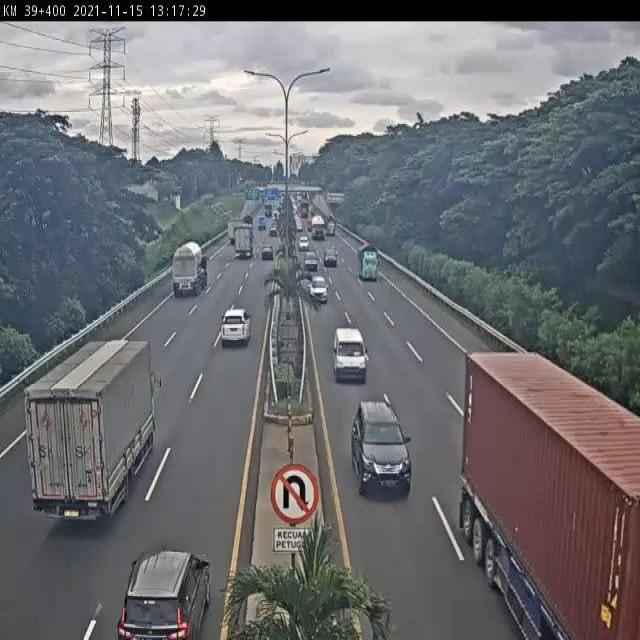big truck: (462, 350, 640, 640)
bus-s-: (331, 325, 369, 384)
car: (119, 544, 215, 640), (350, 398, 415, 498), (220, 306, 253, 350), (306, 275, 330, 304), (303, 248, 321, 272), (321, 247, 338, 268), (260, 242, 276, 262)
truck-l-: (168, 240, 211, 303)
truck-m-: (27, 335, 155, 516), (360, 241, 386, 280)
